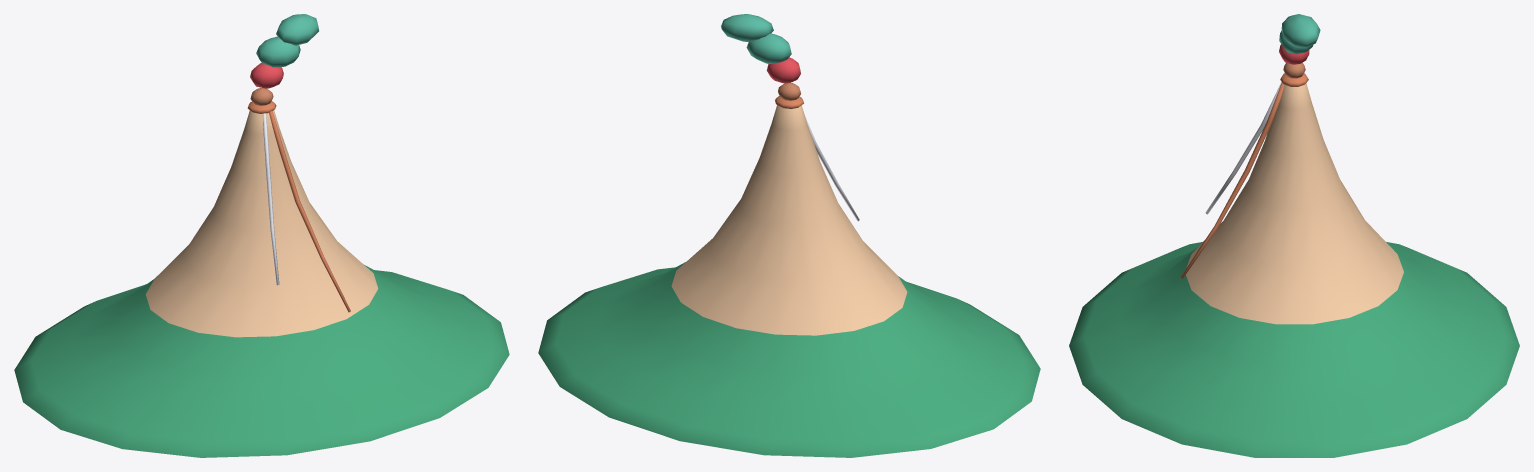
Rendered from mayon.glb.
3 views of the same model, side by side, from view 1: azimuth 30°, elevation 25°; view 2: azimuth 150°, elevation 25°; view 3: azimuth 270°, elevation 25° (orthographic). The views are drawn at different scales.
Parts seen in each view (by area): view 1: cone, plume, rivulets, summit; view 2: cone, plume, summit; view 3: cone, rivulets, plume, summit.
Part boxes in pixels (x1=…): cone: x1=14, y1=110, x2=509, y2=457; plume: x1=250, y1=14, x2=318, y2=88; rivulets: x1=262, y1=111, x2=350, y2=312; summit: x1=247, y1=88, x2=276, y2=113; cone: x1=538, y1=105, x2=1040, y2=457; plume: x1=721, y1=14, x2=800, y2=83; summit: x1=775, y1=82, x2=803, y2=108; cone: x1=1069, y1=83, x2=1519, y2=457; rivulets: x1=1180, y1=82, x2=1284, y2=278; plume: x1=1279, y1=14, x2=1320, y2=64; summit: x1=1280, y1=63, x2=1308, y2=86.
Bounding box in the file's own units: 1.69 × 1.23 × 1.44.
